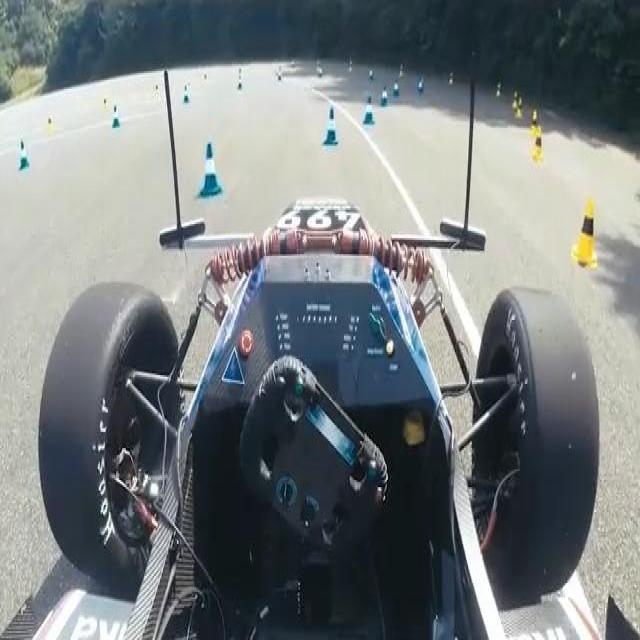blue_cone: (199, 140, 224, 198), (323, 105, 339, 145), (363, 96, 376, 125), (19, 140, 31, 170), (112, 105, 121, 129)
yellow_cone: (572, 198, 598, 268), (532, 126, 545, 163), (530, 108, 540, 136)
